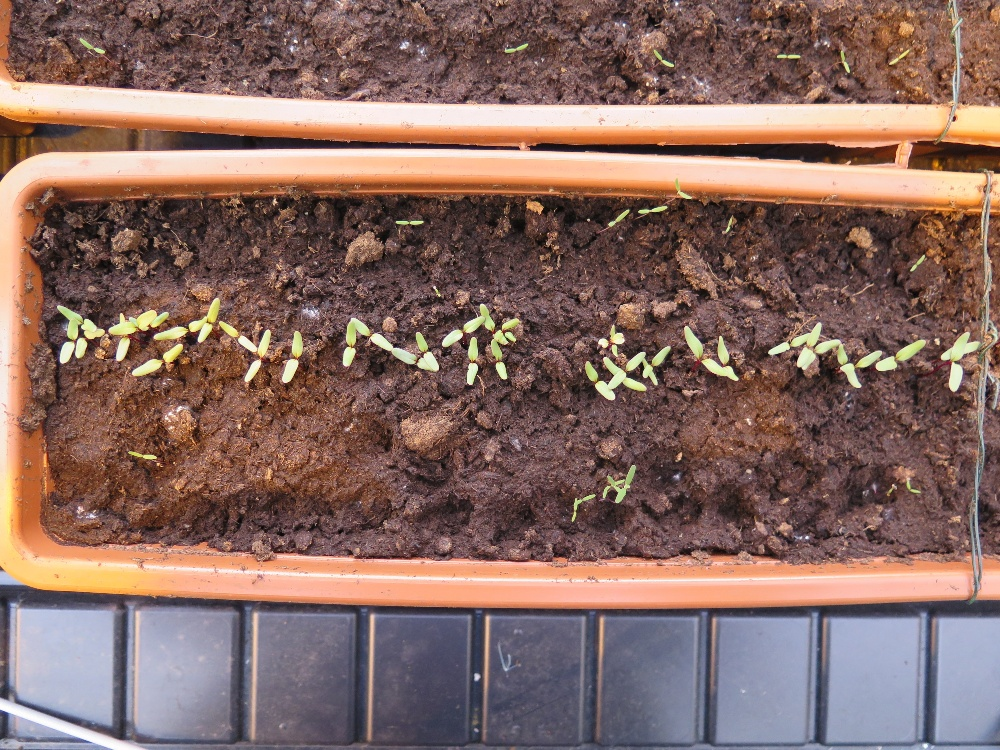crop: (938, 329, 980, 398), (681, 322, 727, 380), (129, 342, 184, 379), (873, 337, 929, 373), (600, 354, 648, 393), (350, 315, 396, 351), (832, 343, 866, 390), (714, 333, 744, 384), (153, 314, 208, 341), (793, 321, 823, 368), (640, 344, 672, 388), (581, 361, 616, 401), (802, 337, 844, 370), (479, 302, 511, 345), (246, 328, 271, 383), (280, 329, 304, 386), (220, 318, 258, 353), (391, 345, 437, 373), (442, 316, 484, 346), (767, 329, 812, 357), (52, 302, 96, 329), (196, 295, 220, 343), (414, 329, 440, 372), (58, 318, 81, 365), (108, 310, 158, 331), (842, 347, 883, 372), (340, 320, 361, 366), (488, 337, 510, 380), (71, 331, 106, 358), (113, 309, 131, 359), (464, 335, 479, 387), (500, 317, 520, 342)
weed: (615, 463, 636, 505), (77, 36, 107, 56), (672, 175, 694, 201), (902, 468, 921, 497), (606, 206, 631, 228), (652, 47, 676, 69), (887, 46, 910, 67), (126, 448, 158, 461), (637, 203, 669, 215), (908, 252, 926, 273), (501, 41, 529, 54), (391, 218, 425, 228), (571, 493, 601, 504), (569, 496, 580, 523), (722, 213, 734, 236), (840, 48, 850, 75), (774, 53, 803, 61)
